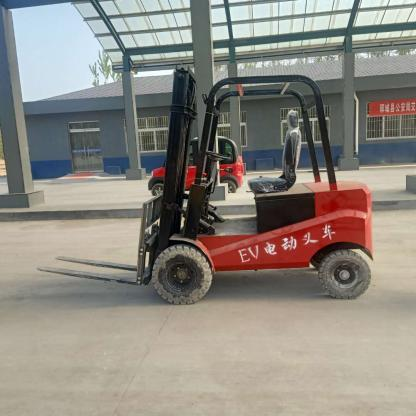forklift: (134, 66, 376, 305)
